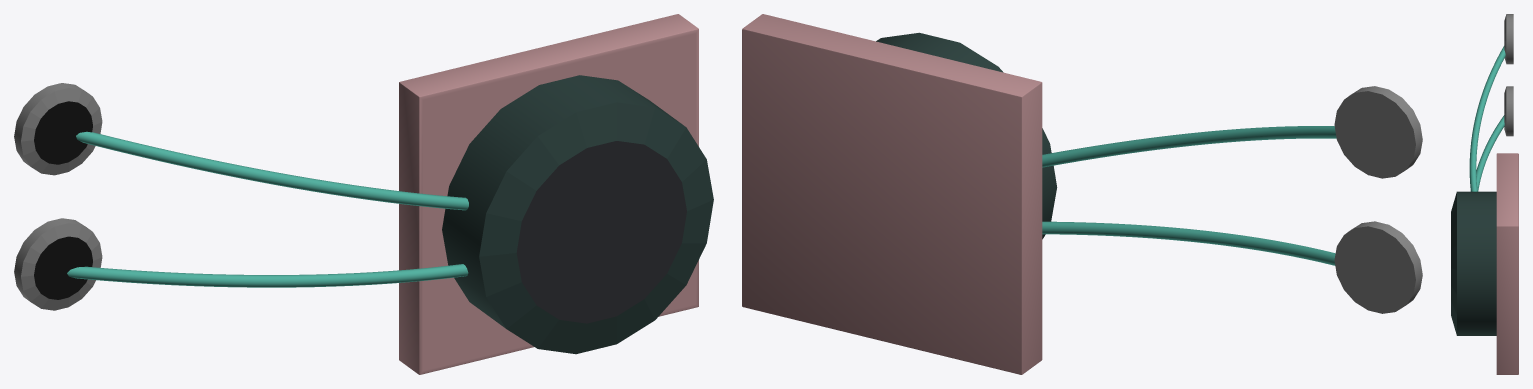
File: gros truc au mur.fbx
3 views of the same model, side by side, from view 1: azimuth 30°, elevation 25°; view 2: azimuth 150°, elevation 25°; view 3: azimuth 270°, elevation 25° (orthographic). The views are drawn at different scales.
Parts seen in each view (by area): view 1: Cylinder027; view 2: Cylinder027; view 3: Cylinder027.
Part boxes in pixels (left/top/right/bottom): Cylinder027: left=14, top=14, right=713, bottom=374; Cylinder027: left=742, top=14, right=1422, bottom=374; Cylinder027: left=1451, top=14, right=1518, bottom=374.
Size of the model in its own units: 718 by 373 by 118.
